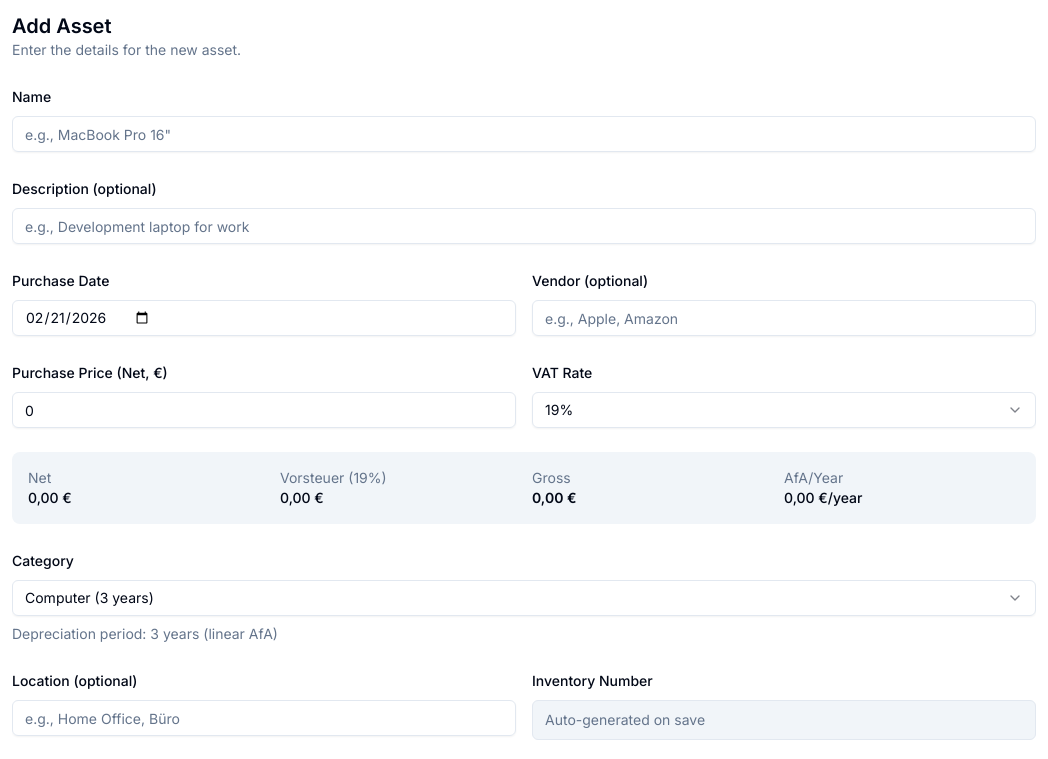
Test: AssetForm › category and AfA years › auto-updates AfA years when category changes
Replace the text in the number field labelled "Purchase Price (Net, €)" with "2000" at (264, 410), box left=12, top=392, right=516, bottom=428
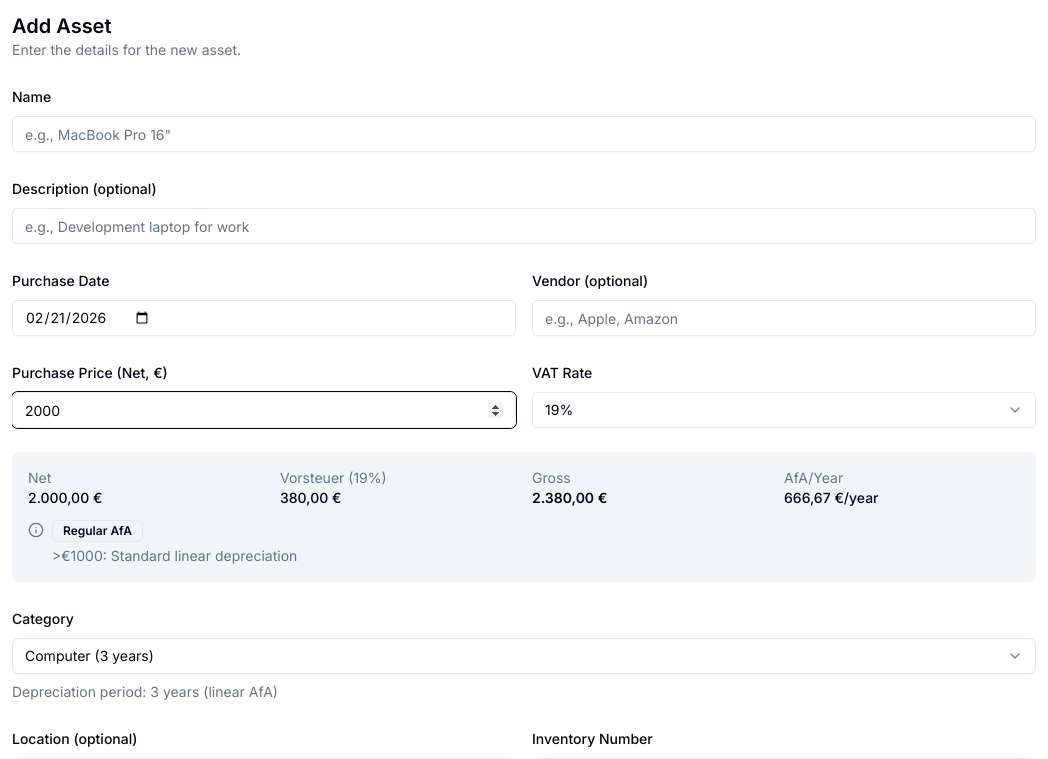
Expected: the text "Depreciation period: 3 years (linear AfA)" is shown, left=12, top=683, right=278, bottom=700
Click the dropdown named "category".
click(89, 656)  # box left=12, top=638, right=1036, bottom=674
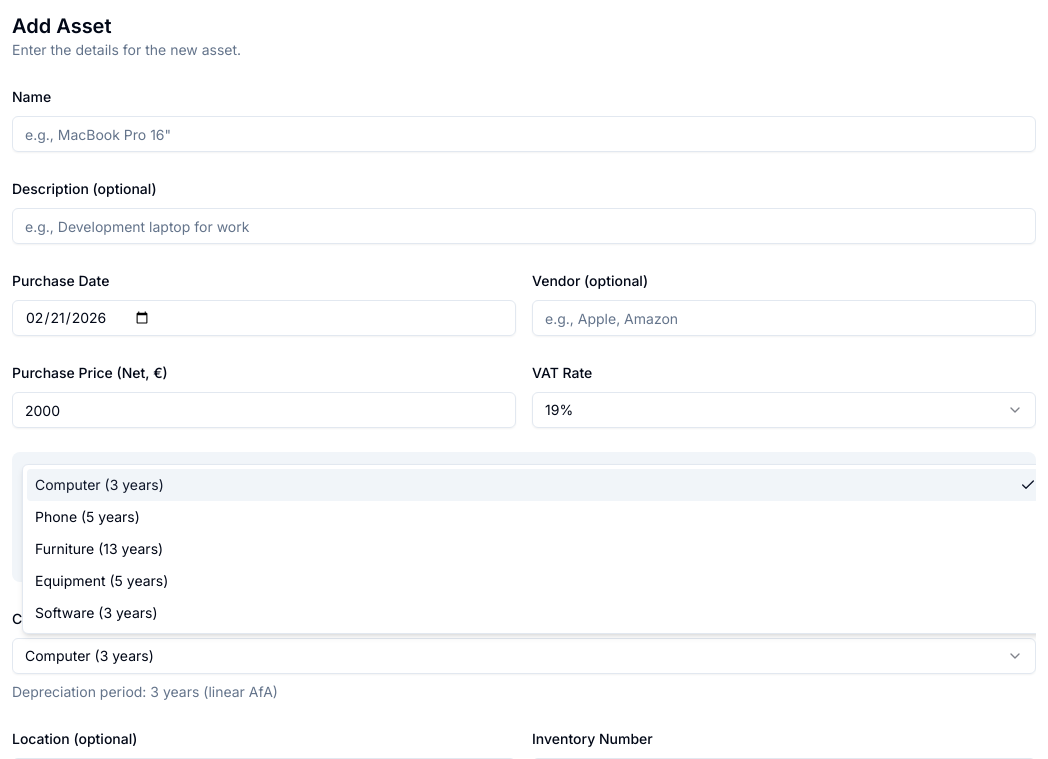
Click the option "Furniture (13 years)".
click(99, 548)  # box left=35, top=540, right=163, bottom=557
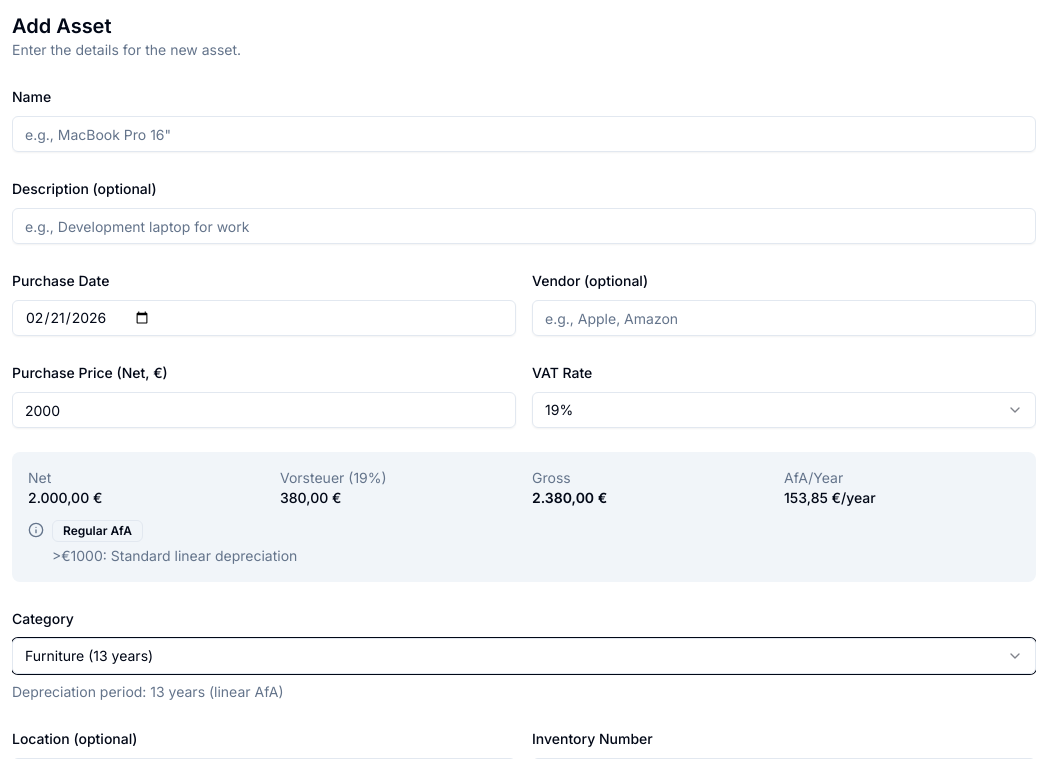
Expected: the text "Depreciation period: 13 years (linear AfA)" is shown, left=12, top=683, right=284, bottom=700
